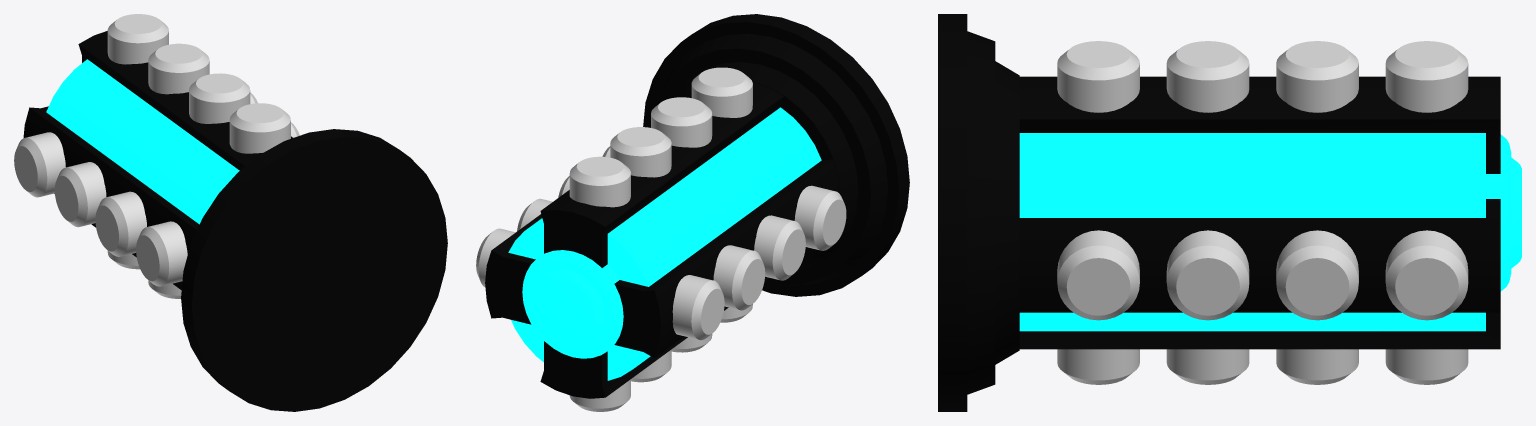
File: CashCow2.fbx
3 renders of one model, left to right at view 1: azimuth 30°, elevation 25°; view 2: azimuth 150°, elevation 25°; view 3: azimuth 270°, elevation 25°, orthographic. The views are drawn at different scales.
Parts seen in each view (by area): view 1: Cylinder, Cylinder.001, Cylinder.010, Cylinder.011, Cylinder.004; view 2: Cylinder, Cylinder.001, Cylinder.004, Cylinder.010, Cylinder.011; view 3: Cylinder.001, Cylinder.004, Cylinder.010, Cylinder, Cylinder.011.
Part boxes in pixels (x1,y1,x2,y2): Cylinder: (181,129,447,411); Cylinder.001: (46,59,239,224); Cylinder.010: (107,14,290,298); Cylinder.011: (14,92,299,286); Cylinder.004: (23,31,292,289); Cylinder: (643,14,909,296); Cylinder.001: (508,107,821,380); Cylinder.004: (485,82,839,398); Cylinder.010: (569,67,752,411); Cylinder.011: (476,146,846,340); Cylinder.001: (1019,133,1521,331); Cylinder.004: (1019,76,1500,349); Cylinder.010: (1057,41,1468,384); Cylinder: (938,14,1019,411); Cylinder.011: (1057,230,1468,320).
Bounding box in the file's own units: 3312 × 3312 × 4854.
